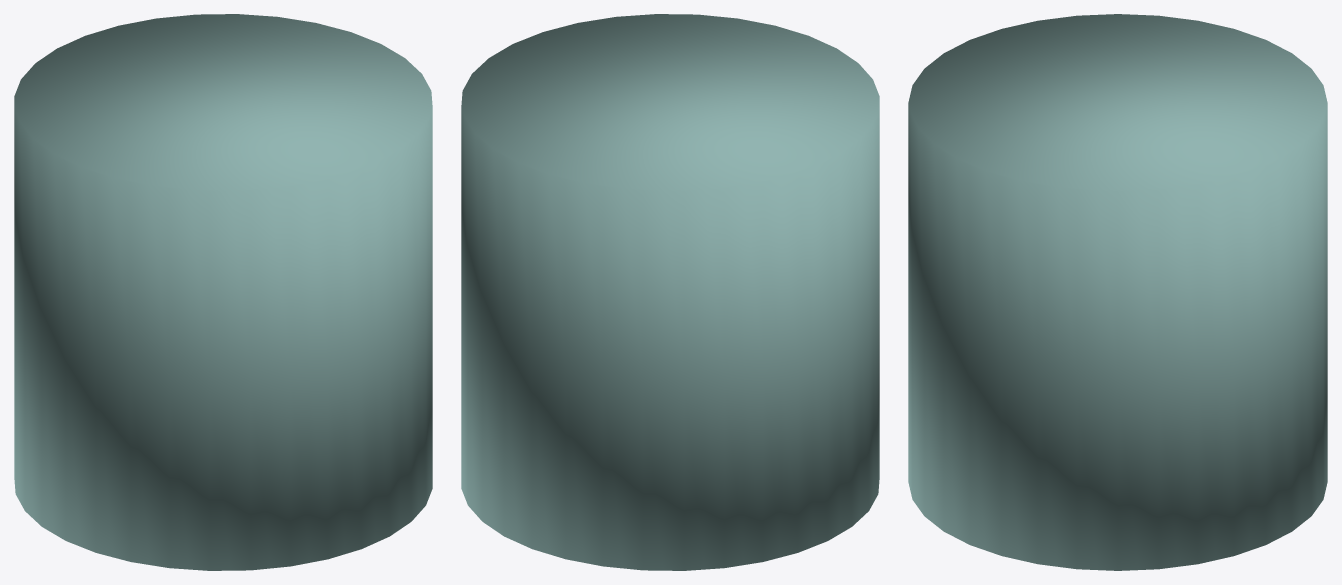
The picture shows the model from 3 angles, left to right: view 1: azimuth 30°, elevation 25°; view 2: azimuth 150°, elevation 25°; view 3: azimuth 270°, elevation 25°; orthographic projection.
Parts seen in each view (by area): view 1: Cylinder; view 2: Cylinder; view 3: Cylinder.
Boxes of the visible parts, bbox=[...] form: Cylinder: bbox=[14, 14, 432, 570]; Cylinder: bbox=[461, 14, 879, 570]; Cylinder: bbox=[908, 14, 1327, 570].
Bounding box in the file's own units: 2 × 2 × 2.
